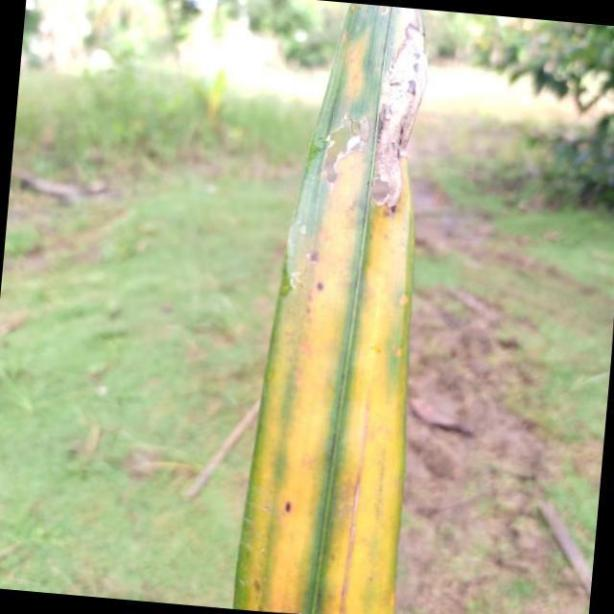Megnesium: (233, 0, 427, 614)
